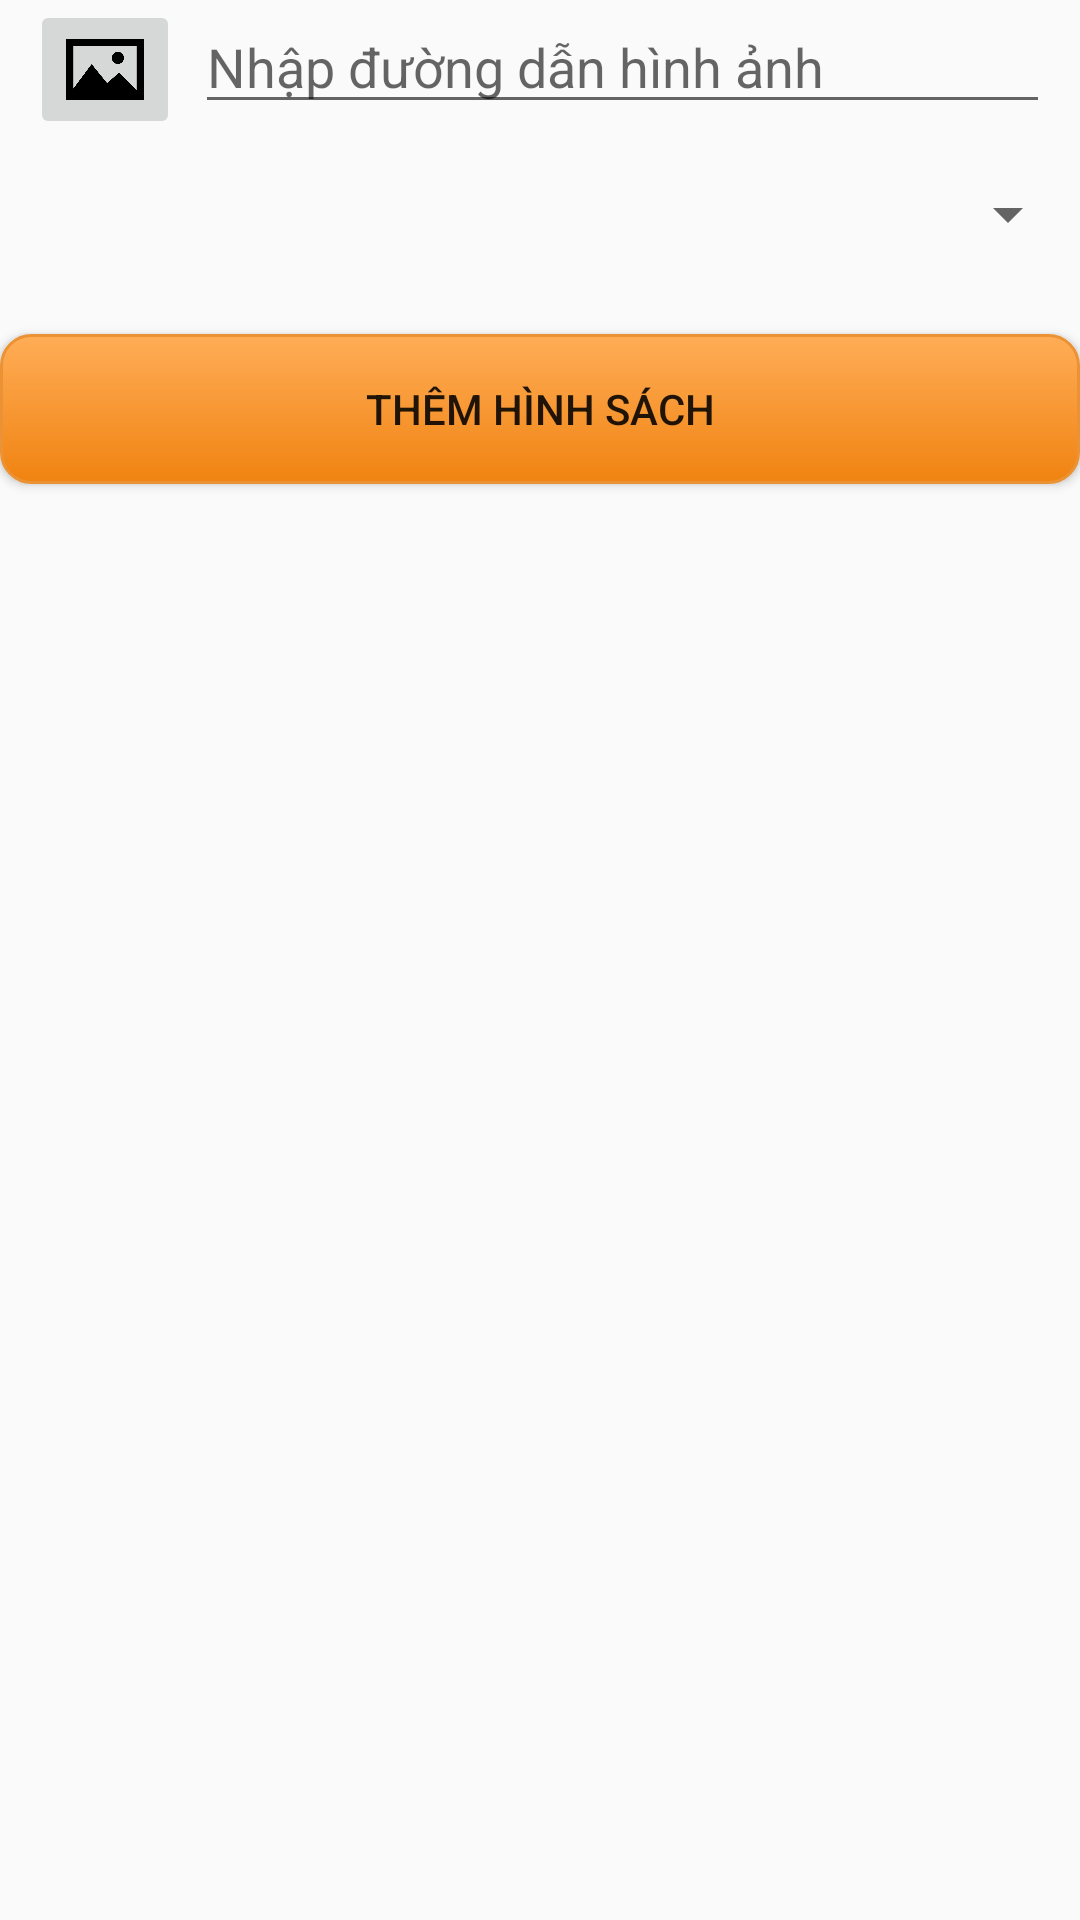

Screen size 1080*1920. Icon name, then its center in pixels as [x,y]:
imageicon: [105,69]
